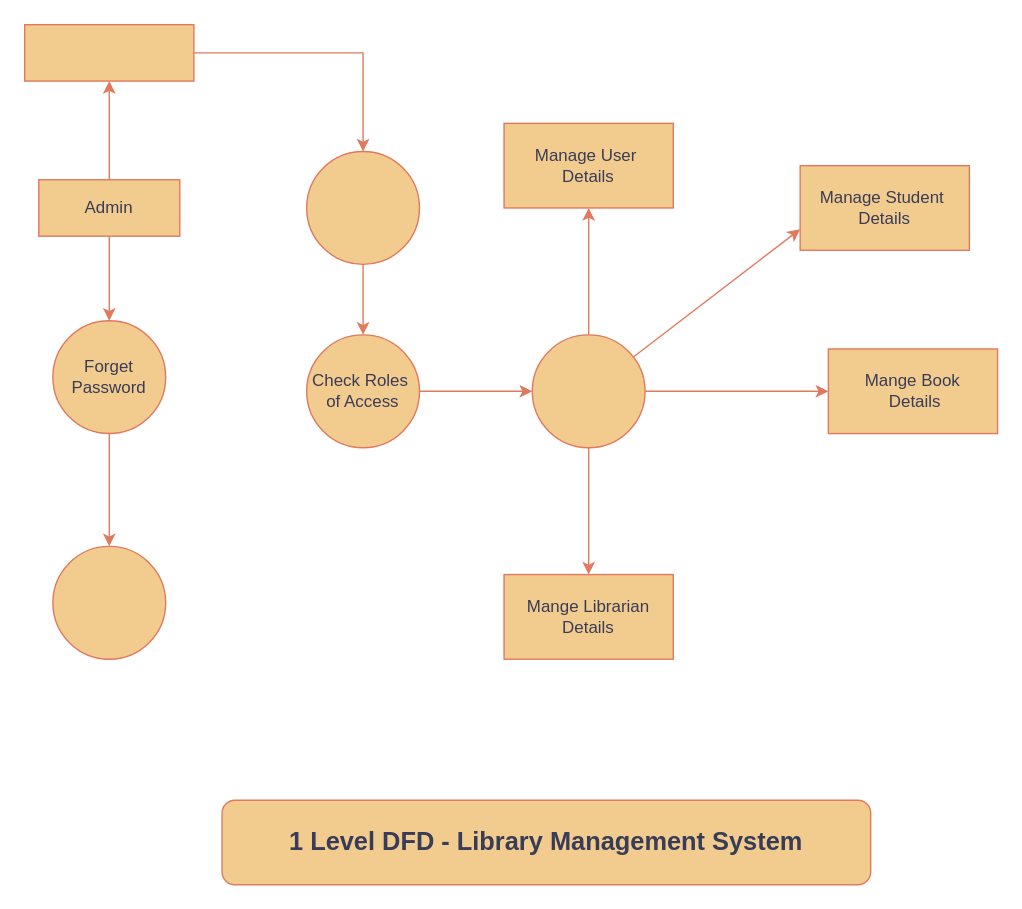
This 1022x909 diagram has some shape labels left out. Here are the shapes that lost their labels. From the top down, the centre of each, then its label:
At (108,52): "Create Username and Password".
At (362,207): "Login to system".
At (588,390): "Mange Modules".
At (108,602): "Send Email to User".
